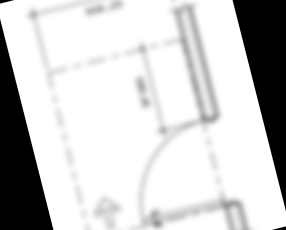door: (120, 118, 229, 227)
